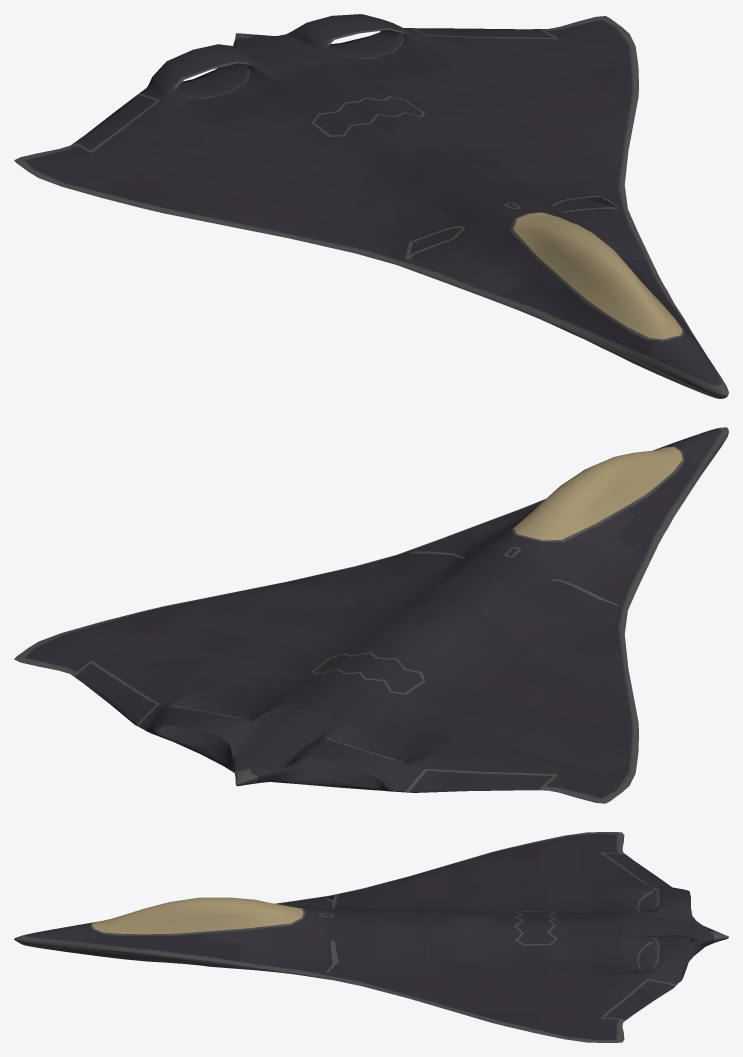
3 renders of one model, top to bottom at view 1: azimuth 30°, elevation 25°; view 2: azimuth 150°, elevation 25°; view 3: azimuth 270°, elevation 25°, orthographic. The views are drawn at different scales.
Parts seen in each view (by area): view 1: Final_2; view 2: Final_2; view 3: Final_2.
Part boxes in pixels (x1,y1,x2,y2): Final_2: (14,14,728,398); Final_2: (14,427,728,803); Final_2: (14,832,728,1042).
Bounding box in the file's own units: 9.99 × 1.44 × 14.32.
2 materials, 2 textured.
